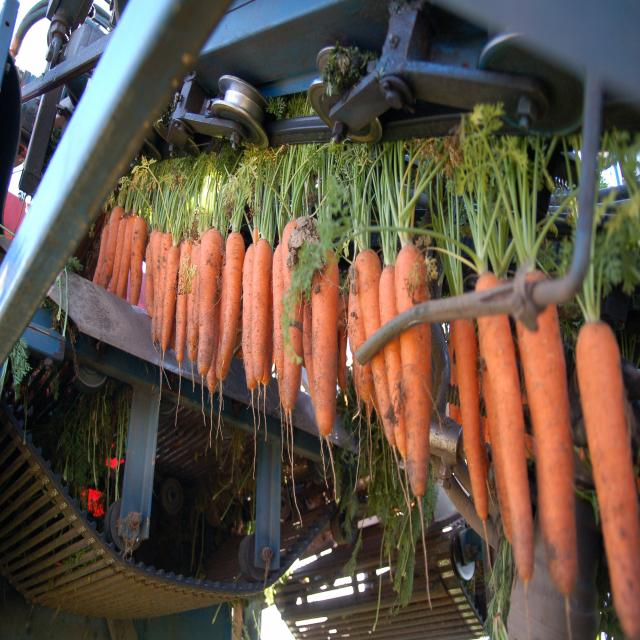carrot: (588, 329, 640, 635), (472, 324, 518, 596), (529, 340, 579, 590), (399, 324, 436, 496), (454, 324, 475, 528), (311, 246, 332, 435), (202, 204, 222, 382), (252, 242, 272, 408), (281, 231, 300, 403), (224, 228, 242, 380), (399, 236, 428, 308), (176, 235, 191, 367), (132, 210, 148, 304), (163, 241, 176, 344), (360, 230, 372, 339), (104, 196, 122, 268), (381, 262, 391, 330)
